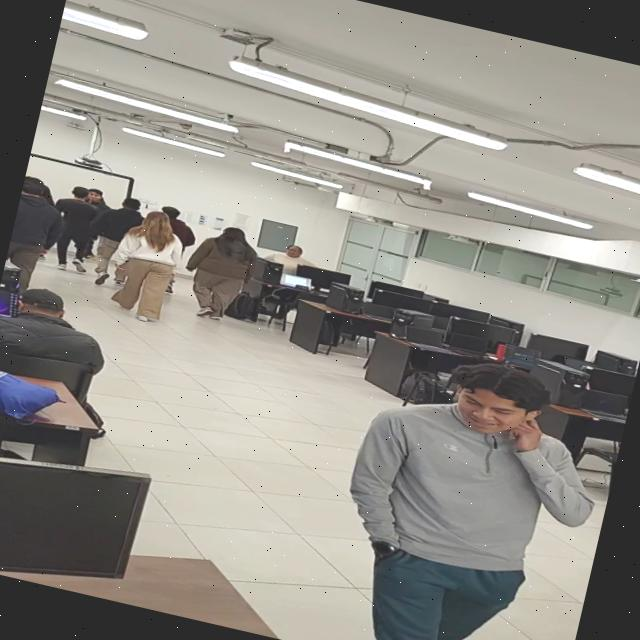Persona: (307, 330, 632, 640), (104, 202, 193, 328), (177, 217, 272, 332), (0, 172, 61, 294), (83, 187, 148, 296), (46, 184, 108, 276)
